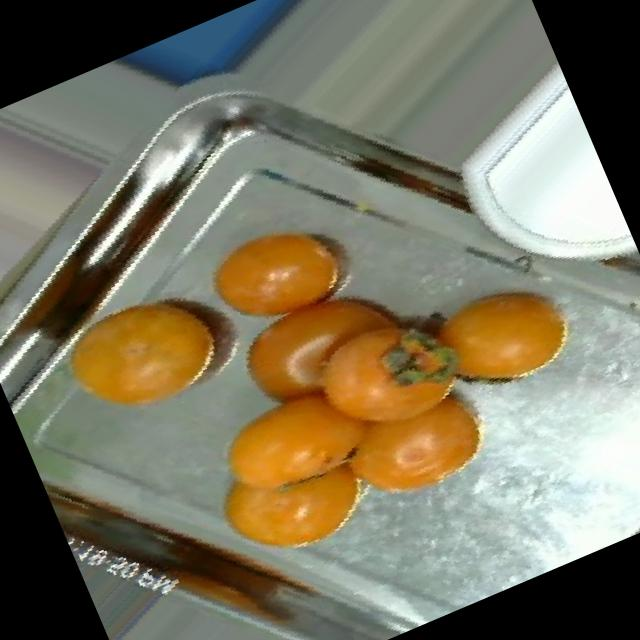Fruit: (158, 346, 428, 604), (20, 238, 282, 467), (296, 326, 527, 543), (392, 239, 610, 436), (169, 177, 391, 369)
